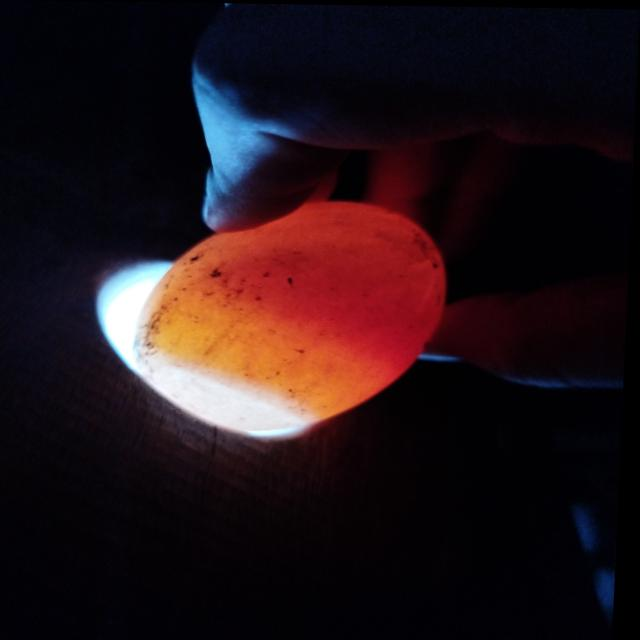Camara de Ar: (136, 348, 324, 431)
